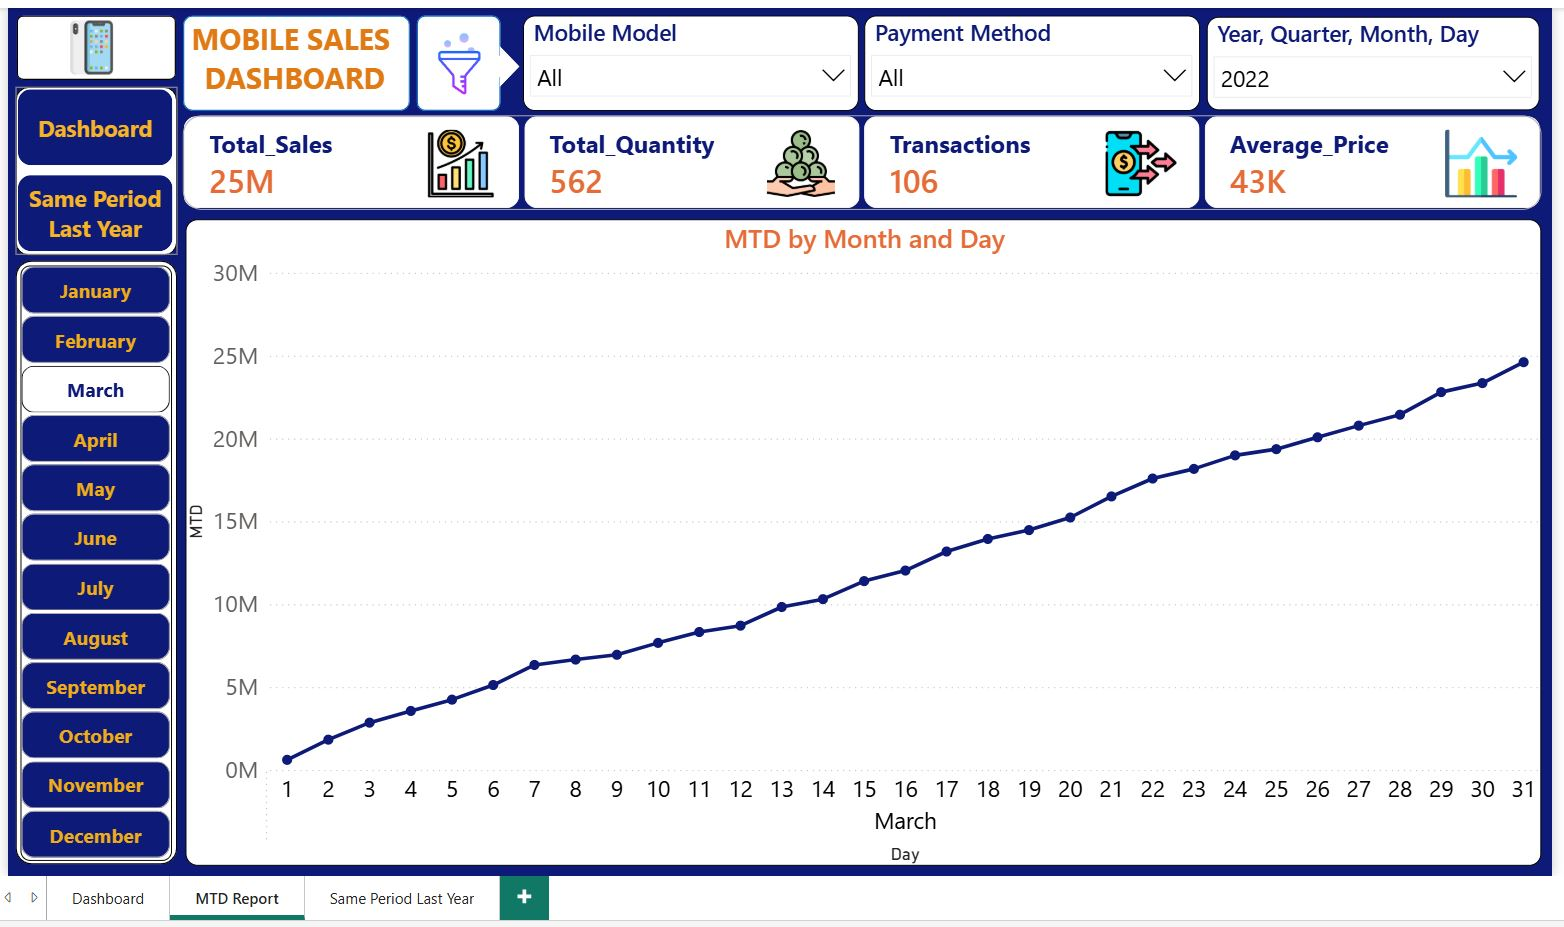

Layout of this report page (visuals, bound fields, positions):
{"tool":"powerbi","page":{"name":"MTD Report","canvas":[1280,720],"ordinal":1},"visuals":[{"type":"shape","box":[7.2,5.8,132,53.4],"z":0},{"type":"image","box":[14.4,10.1,109.6,44.7],"z":1000},{"type":"shape","box":[5.8,64.9,134,139.9],"z":2000},{"type":"shape","box":[5.8,209.2,134,500.6],"z":3000},{"type":"advancedSlicerVisual","fields":{"Values":["Custom_Calender.Date.Variation.Date Hierarchy.Month"]},"box":[10.1,213.5,125.5,493.4],"z":4000},{"type":"cardVisual","fields":{"Data":["Sales_Data.Total_Sales","Sales_Data.Total_Quantity","Sales_Data.Transactions","Sales_Data.Average_Price"]},"box":[141.4,85.1,1136,86.6],"z":5000},{"type":"shape","box":[145,6,188.2,79.1],"z":6000},{"type":"textbox","box":[149.8,9.6,175,69.5],"z":7000},{"type":"shape","box":[339.2,6,69.5,79.1],"z":8000},{"type":"shape","box":[390.7,31.2,33.6,34.8],"z":9000},{"type":"image","box":[342.8,13.2,62.3,65.9],"z":10000},{"type":"slicer","fields":{"Values":["Custom_Calender.Date.Variation.Date Hierarchy.Year","Custom_Calender.Date.Variation.Date Hierarchy.Quarter","Custom_Calender.Date.Variation.Date Hierarchy.Month","Custom_Calender.Date.Variation.Date Hierarchy.Day"]},"box":[993.6,7.2,275.7,77.9],"z":11000},{"type":"slicer","fields":{"Values":["Sales_Data.Mobile Model"]},"box":[426.7,6,278.1,79.1],"z":12000},{"type":"slicer","fields":{"Values":["Sales_Data.Payment Method"]},"box":[709.5,6,278.1,79.1],"z":13000},{"type":"lineChart","fields":{"Y":["Sales_Data.MTD"],"Category":["Custom_Calender.Date.Variation.Date Hierarchy.Month","Custom_Calender.Date.Variation.Date Hierarchy.Day"]},"box":[147.4,175,1124.2,535.7],"z":14000},{"type":"pageNavigator","box":[8.4,67.1,128.2,135.4],"z":15000}]}

Visuals, with their boxes on the page's 1280x720 design canvas (x1, y1, x2, y2). These are canvas units, not pixel positions in the 1564x927 screenshot, which may show the page scaled, cropped or inside an application window:
shape: 7,6,139,59
image: 14,10,124,55
shape: 6,65,140,205
shape: 6,209,140,710
advancedSlicerVisual - Custom_Calender.Date.Variation.Date Hierarchy.Month: 10,214,136,707
cardVisual - Sales_Data.Total_Sales x Sales_Data.Total_Quantity: 141,85,1277,172
shape: 145,6,333,85
textbox: 150,10,325,79
shape: 339,6,409,85
shape: 391,31,424,66
image: 343,13,405,79
slicer - Custom_Calender.Date.Variation.Date Hierarchy.Year x Custom_Calender.Date.Variation.Date Hierarchy.Quarter: 994,7,1269,85
slicer - Sales_Data.Mobile Model: 427,6,705,85
slicer - Sales_Data.Payment Method: 710,6,988,85
lineChart - Sales_Data.MTD x Custom_Calender.Date.Variation.Date Hierarchy.Month: 147,175,1272,711
pageNavigator: 8,67,137,202
